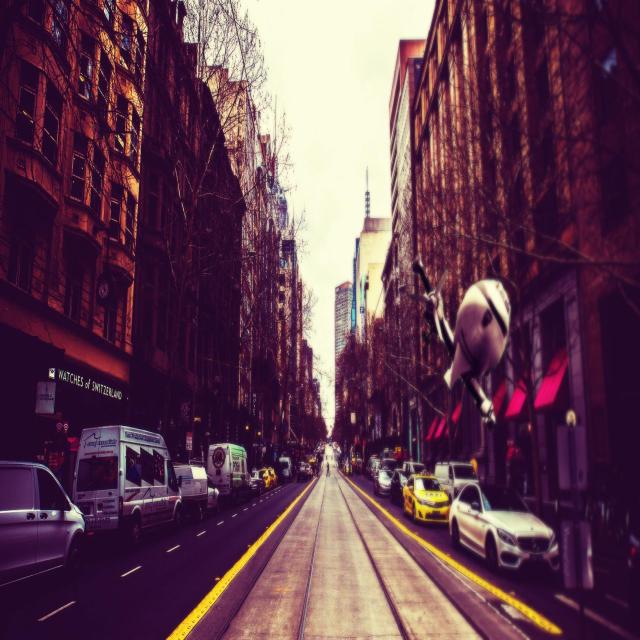airplane: (409, 250, 512, 430)
